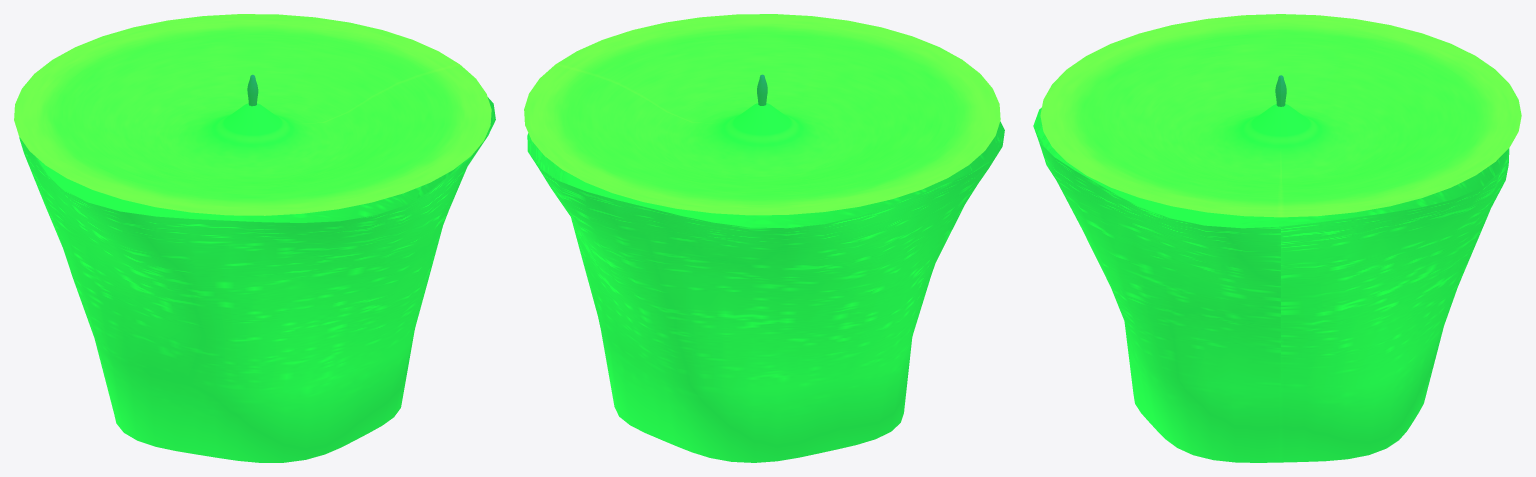
File: bubble_tip_anemone.glb
The picture shows the model from 3 angles, left to right: view 1: azimuth 30°, elevation 25°; view 2: azimuth 150°, elevation 25°; view 3: azimuth 270°, elevation 25°; orthographic projection.
Visible parts, largest first — view 1: Disc; view 2: Disc; view 3: Disc.
Boxes of the visible parts, x1,y1,x2,y2 form: Disc: (14,14,495,462); Disc: (524,14,1004,462); Disc: (1033,14,1521,462).
Bounding box in the file's own units: 8.45 × 6.73 × 8.52.
2 materials, 2 textured.
